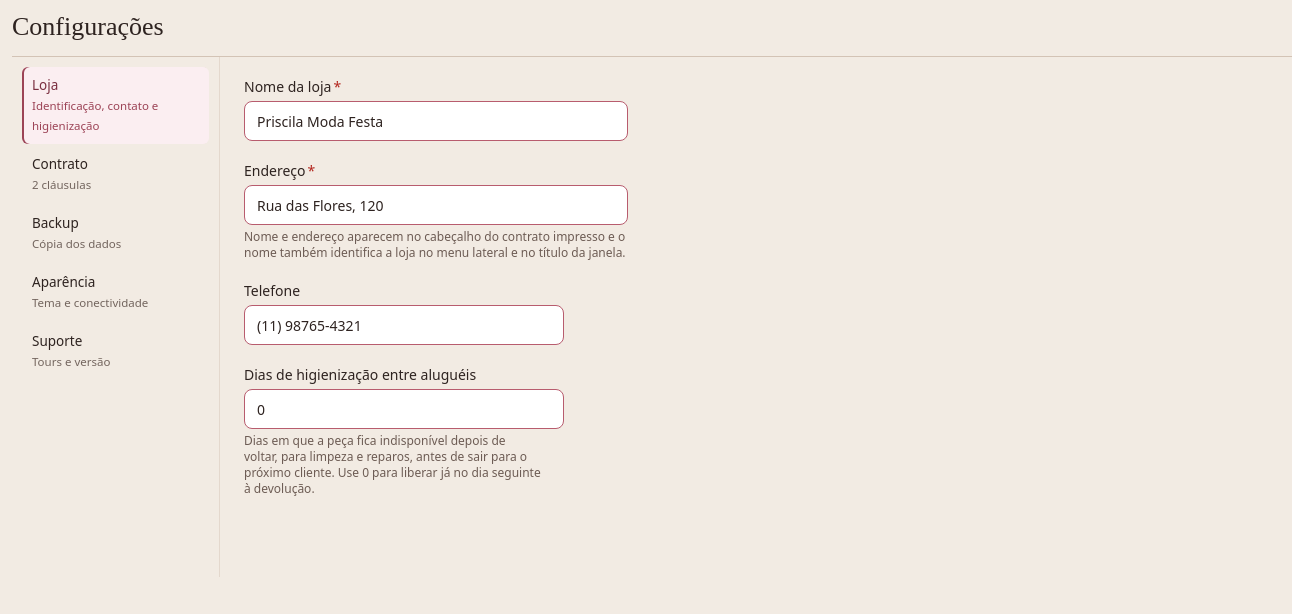
validation feedback › marks an emptied required field inline and for assistive tech
The image size is (1292, 614).
Clear the field labelled "Nome da loja" at (436, 121), box [244,101,628,141]
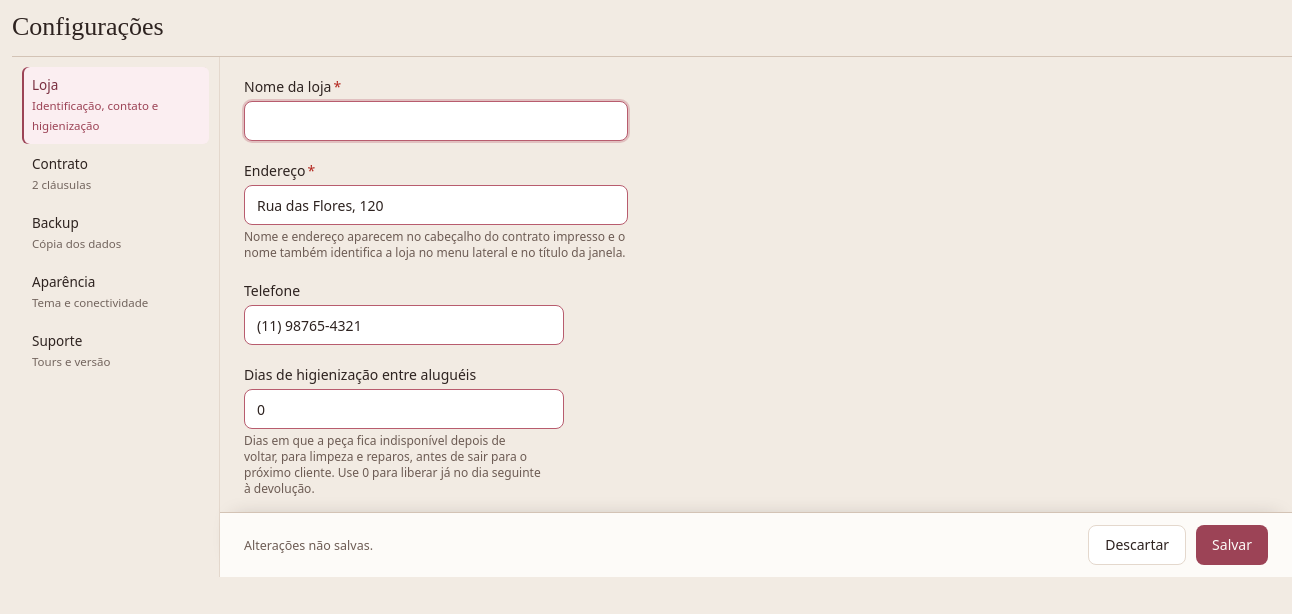
Click the button "Salvar" at (1232, 545), box [1196,525,1268,565]
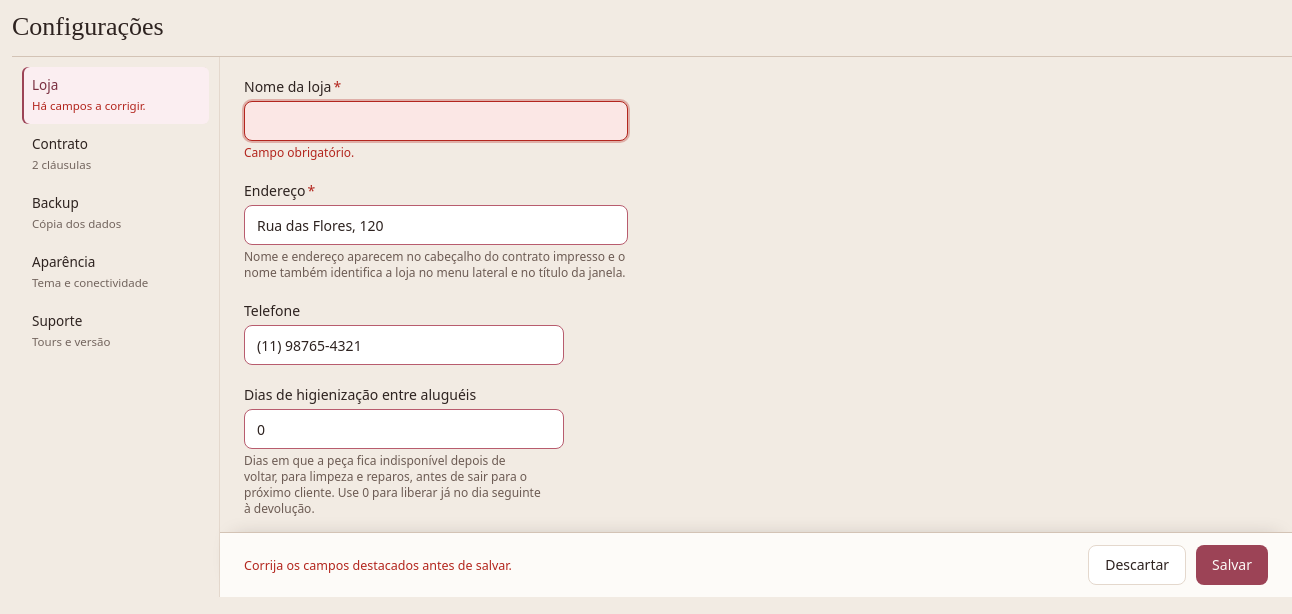
Expected: the text "Campo obrigatório." is shown, [244,144,354,161]
